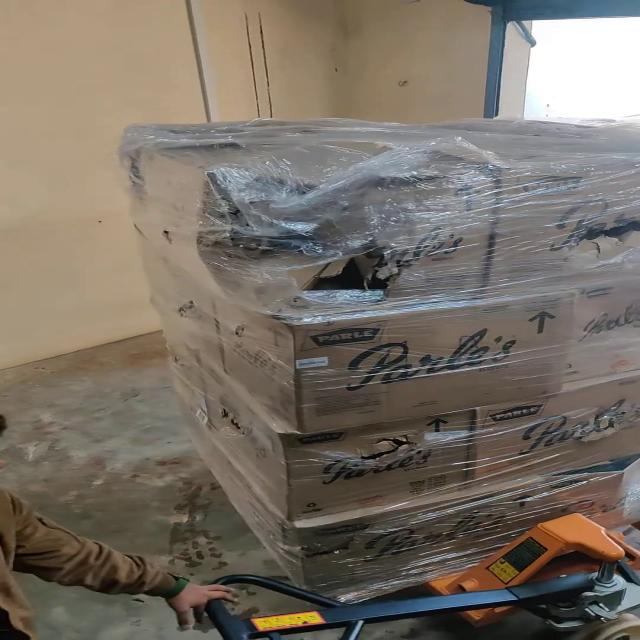leakage: (264, 227, 450, 307), (542, 200, 640, 267)
squeeze: (181, 158, 501, 317)
tear: (261, 417, 462, 487), (563, 392, 631, 458)
